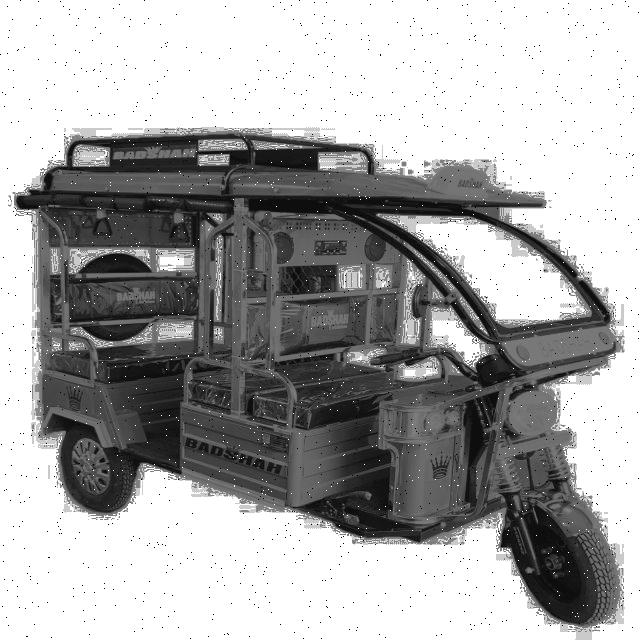Toto: (19, 132, 621, 628)
